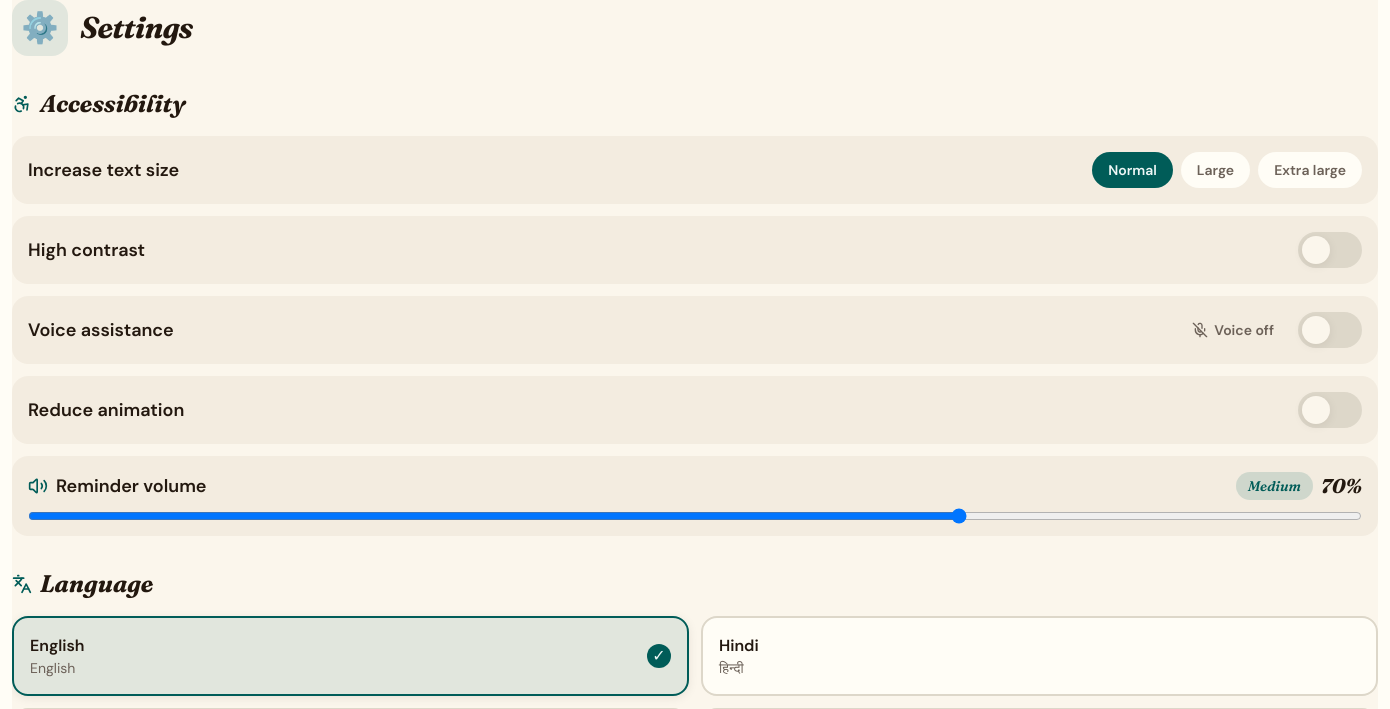
Test case: SettingsPage language picker › switches the interface language when a language is selected
The width and height of the screenshot is (1390, 709).
Expected: the heading "Settings" is shown, [80,10,192,46]
Step 1. Click the button with test id "settings.language.hi" → (739, 646), box [701,616,1378,696]
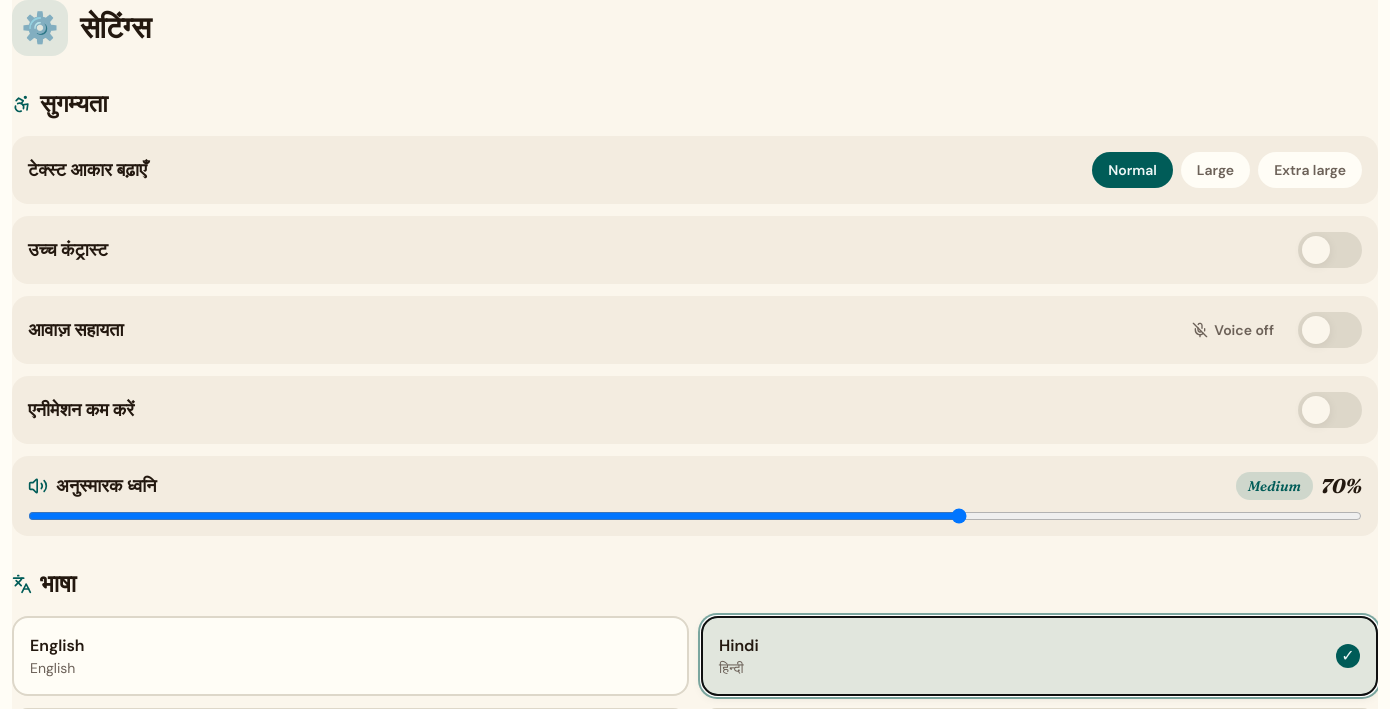
Expected: the heading "सेटिंग्स" is shown, [80,10,151,46]
